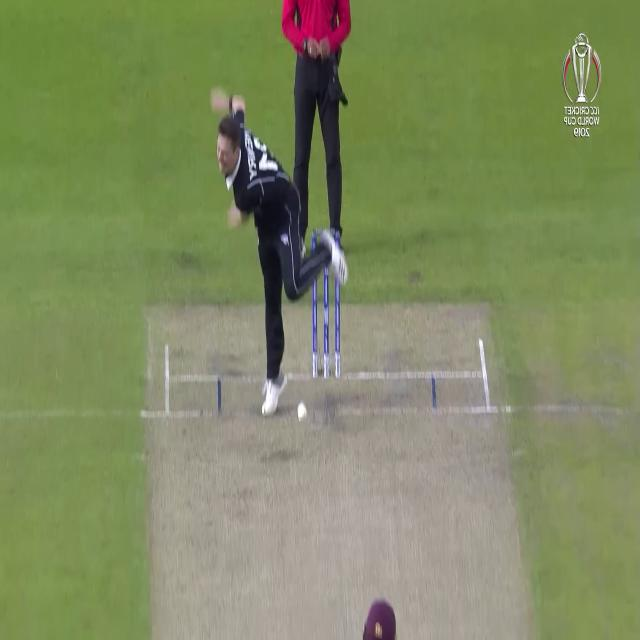ball: (295, 396, 308, 425)
